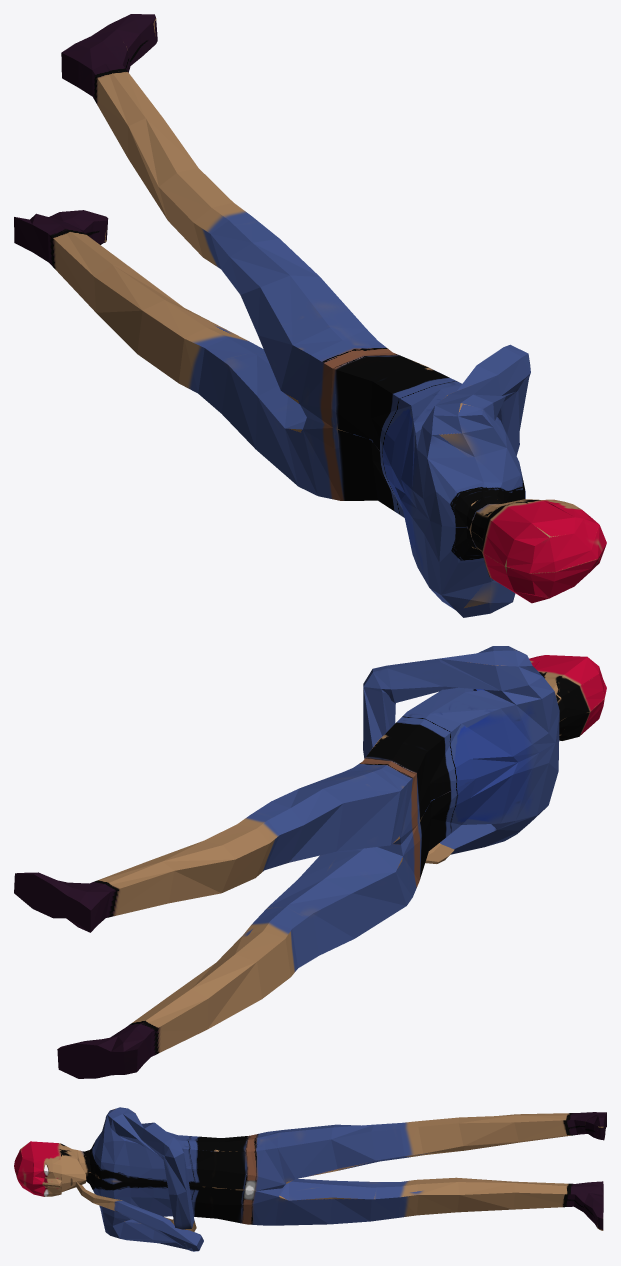
File: mirrorman_000011.obj
3 views of the same model, one above another, from view 1: azimuth 30°, elevation 25°; view 2: azimuth 150°, elevation 25°; view 3: azimuth 270°, elevation 25° (orthographic). The views are drawn at different scales.
Parts seen in each view (by area): view 1: mirrorman_Cube.001_Material.001; view 2: mirrorman_Cube.001_Material.001; view 3: mirrorman_Cube.001_Material.001.
Part boxes in pixels (x1=…): mirrorman_Cube.001_Material.001: x1=14, y1=14, x2=606, y2=617; mirrorman_Cube.001_Material.001: x1=14, y1=646, x2=606, y2=1078; mirrorman_Cube.001_Material.001: x1=14, y1=1107, x2=606, y2=1251.
Bounding box in the file's own units: 0.3581 × 0.5048 × 1.9.
